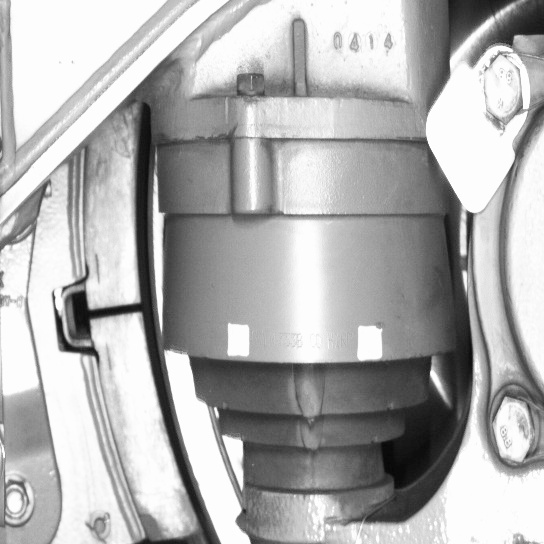KnifeSwitch: (93, 138, 223, 542)
